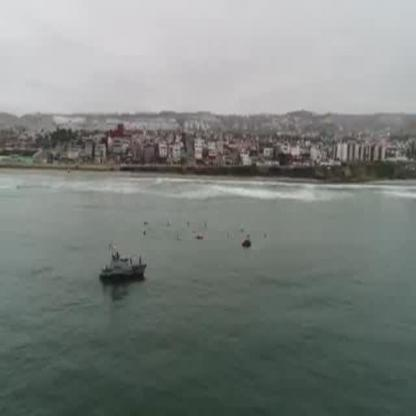Boat: (99, 245, 146, 292)
